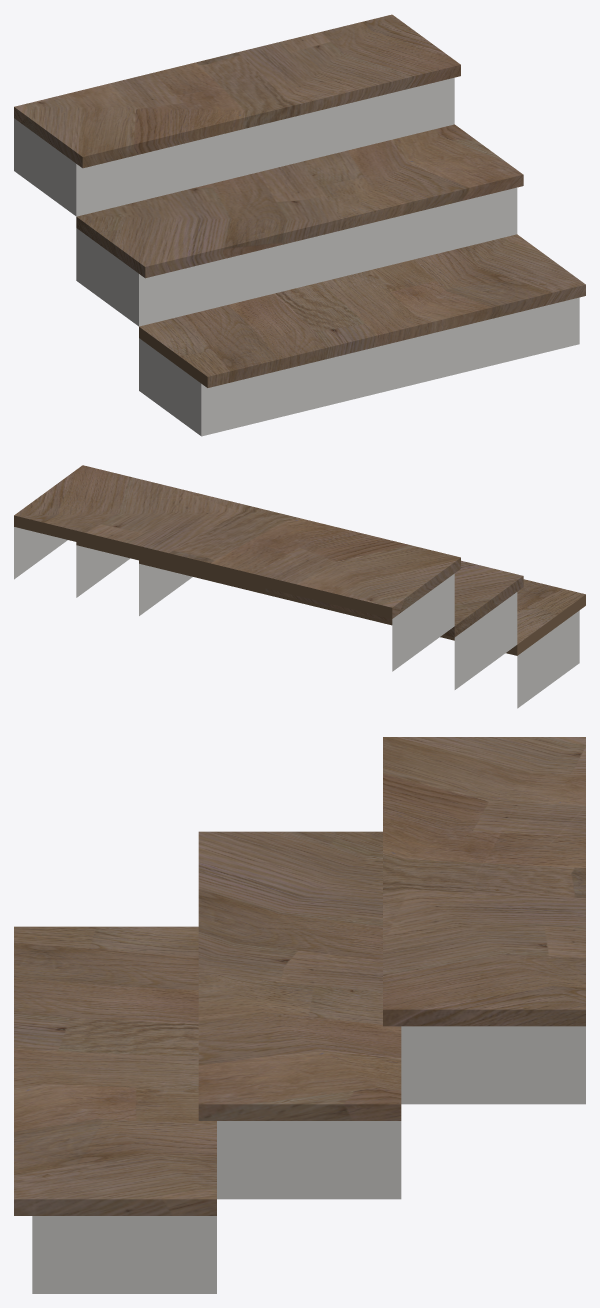
The model's file is escalera.fbx.
3 renders of one model, top to bottom at view 1: azimuth 30°, elevation 25°; view 2: azimuth 150°, elevation 25°; view 3: azimuth 270°, elevation 25°, orthographic. The views are drawn at different scales.
Visible parts, largest first — view 1: Stairs; view 2: Stairs; view 3: Stairs.
Part boxes in pixels (bbox=[...]): Stairs: bbox=[14, 14, 585, 436]; Stairs: bbox=[14, 465, 585, 708]; Stairs: bbox=[14, 737, 585, 1293].
Bounding box in the file's own units: 1.05 × 0.51 × 0.93.
Materials: 2 (1 with a texture image).
